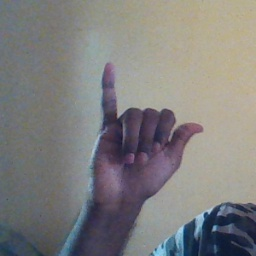J: (84, 62, 207, 201)
